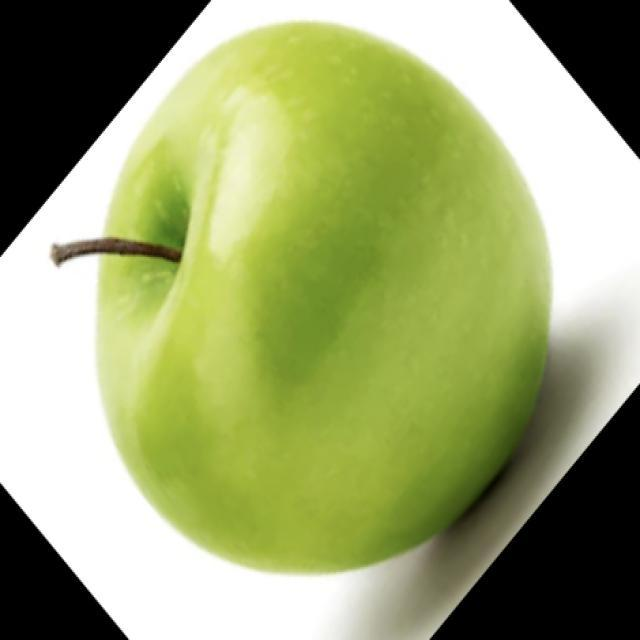Fresh Apple: (89, 23, 560, 571)
